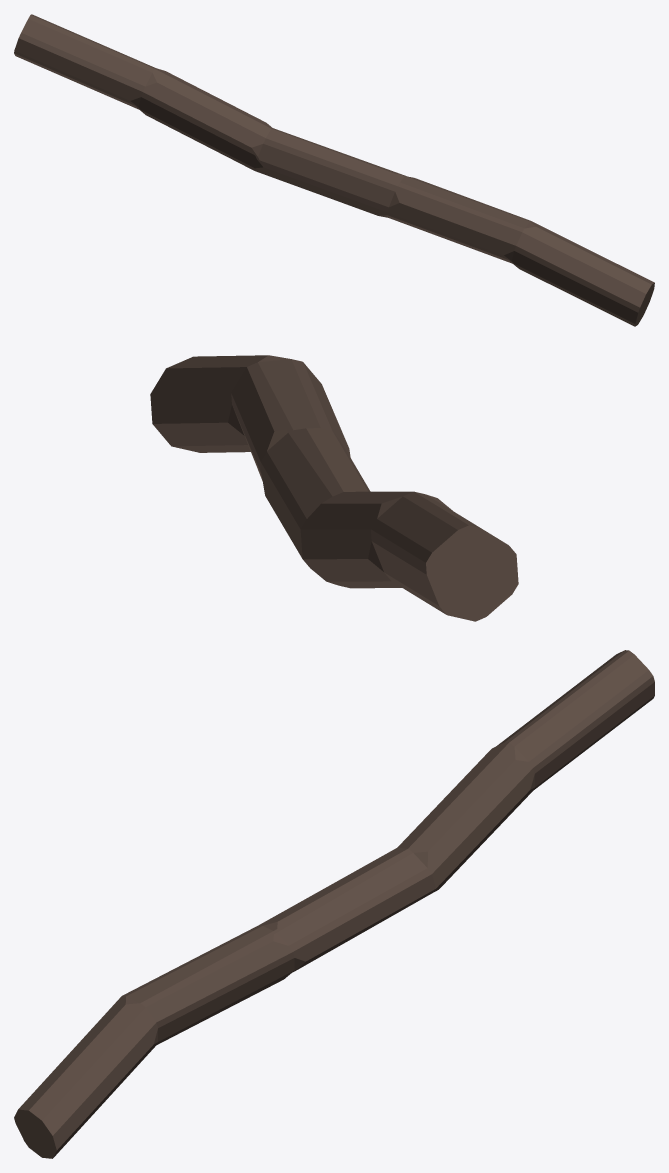
File: 18 Wood.FBX
The picture shows the model from 3 angles, top to bottom: view 1: azimuth 30°, elevation 25°; view 2: azimuth 150°, elevation 25°; view 3: azimuth 270°, elevation 25°; orthographic projection. The views are drawn at different scales.
Visible parts, largest first — view 1: Cylinder101; view 2: Cylinder101; view 3: Cylinder101.
Boxes of the visible parts, x1,y1,x2,y2 form: Cylinder101: (14,14,654,326); Cylinder101: (150,355,518,621); Cylinder101: (14,650,654,1158).
Size of the model in its own units: 421 by 222 by 457.
